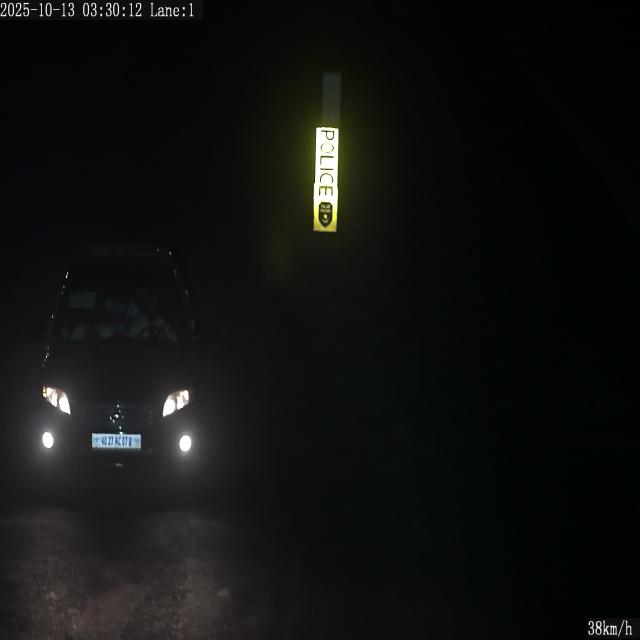BUS: (92, 434, 141, 449)
